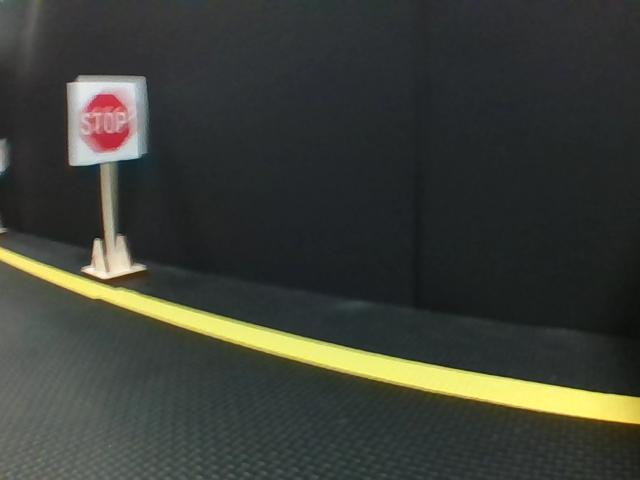stop: (73, 78, 140, 160)
